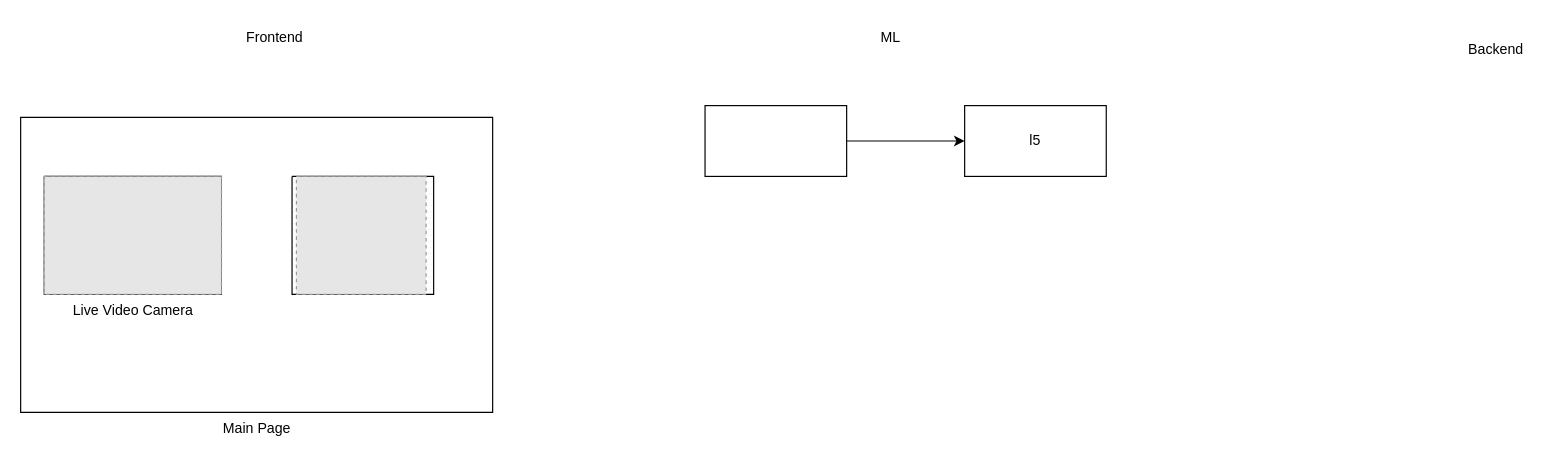
This 1558x457 diagram has some shape labels left out. Grey dashed boxes stand in for pictures. Each missing label, with the box of its shape:
AI Simulation: (291, 175, 434, 294)
Live video: (704, 104, 847, 176)
